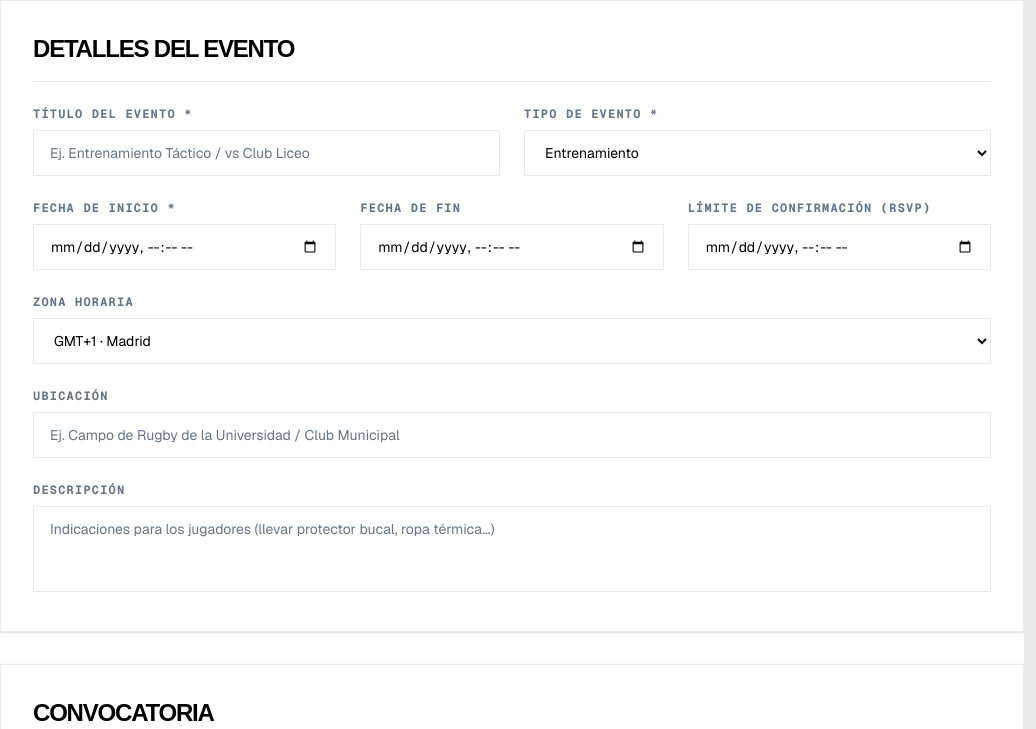
it: EventForm — convocatoria según el tipo › volver a entrenamiento sustituye otra vez la selección por el texto
This screenshot has width=1036, height=729.
Select "Partido" in the dropdown showing "Entrenamiento": (758, 153) [524,130,991,176]
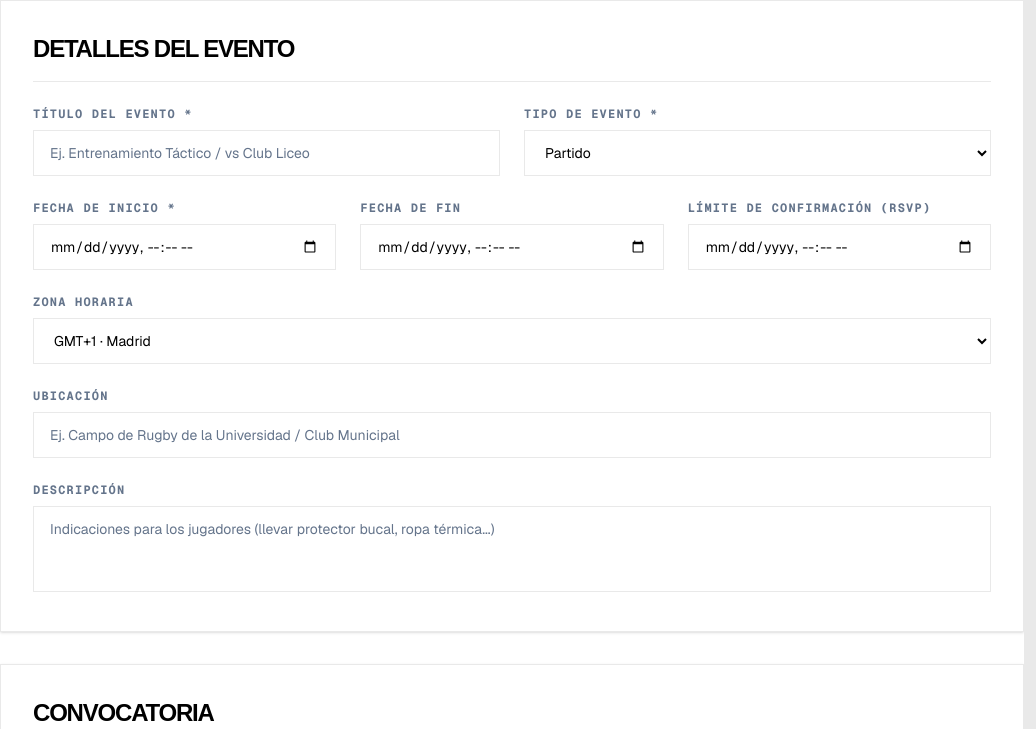
Select "Entrenamiento" in the dropdown showing "Partido": (758, 153) [524,130,991,176]
(page scrolled)
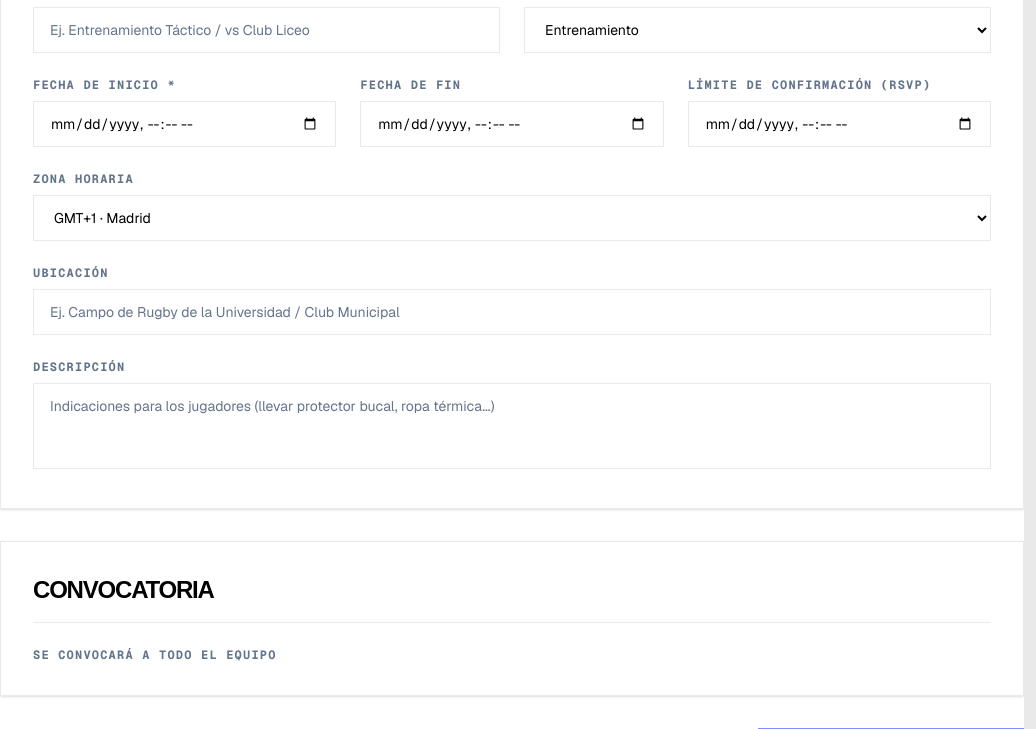
Check: the text "Se convocará a todo el equipo" is shown, box [33,647,277,663]
